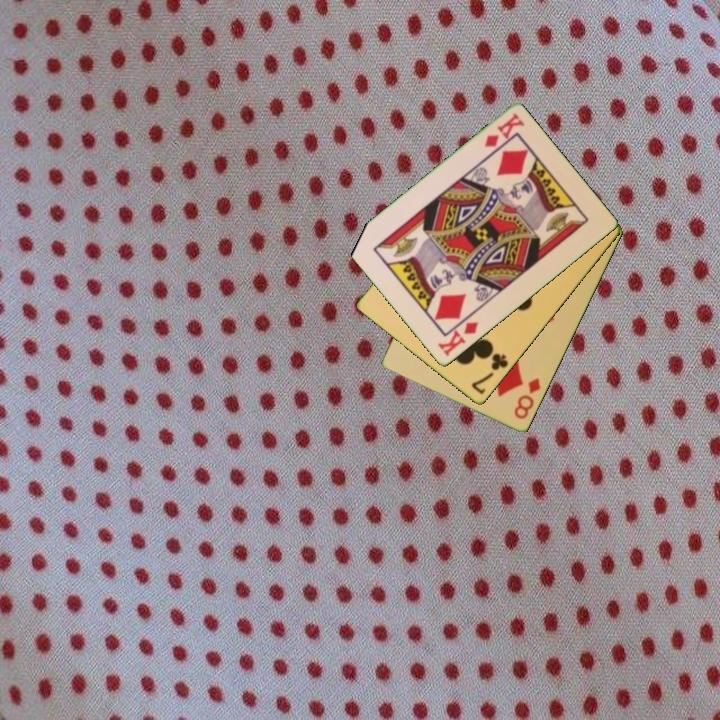7c: (468, 350, 511, 398)
8d: (510, 374, 544, 422)
Kd: (434, 318, 482, 360), (481, 110, 527, 151)
